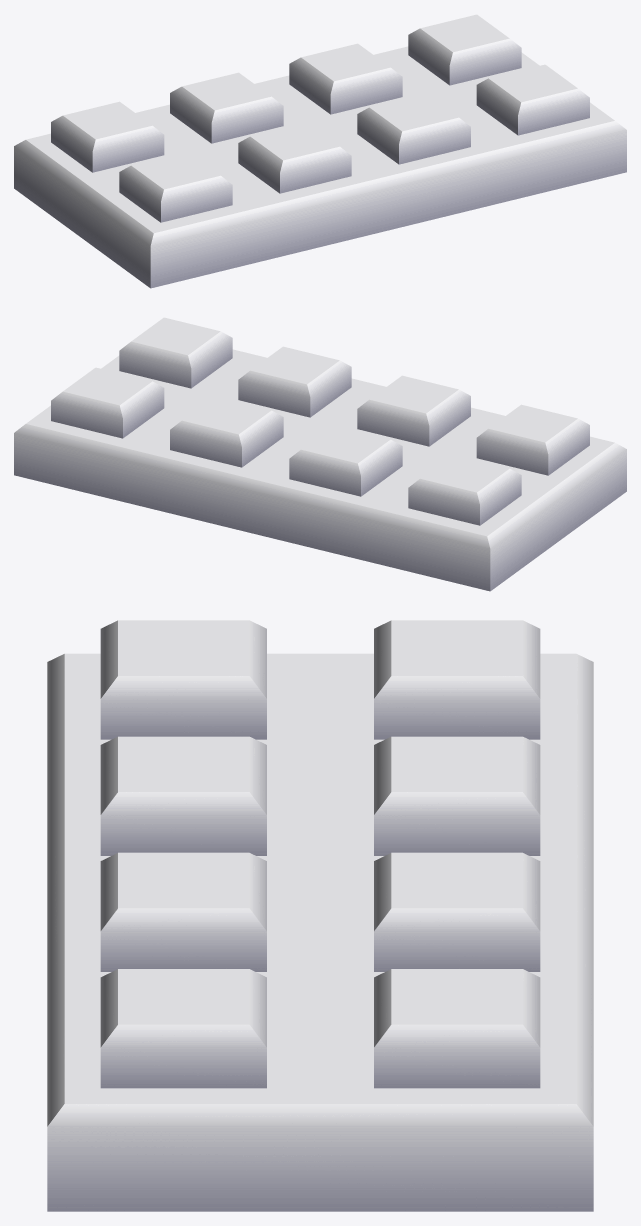
File: brick-kit--square-hq-plate-2x4.glb
The picture shows the model from 3 angles, top to bottom: view 1: azimuth 30°, elevation 25°; view 2: azimuth 150°, elevation 25°; view 3: azimuth 270°, elevation 25°; orthographic projection. The views are drawn at different scales.
Parts seen in each view (by area): view 1: square-hq-plate-2x4; view 2: square-hq-plate-2x4; view 3: square-hq-plate-2x4.
Boxes of the visible parts, x1,y1,x2,y2 form: square-hq-plate-2x4: (14,14,626,288); square-hq-plate-2x4: (14,317,626,591); square-hq-plate-2x4: (47,620,593,1211).
Bounding box in the file's own units: 0.318 × 0.05 × 0.158.
1 material, 1 textured.
